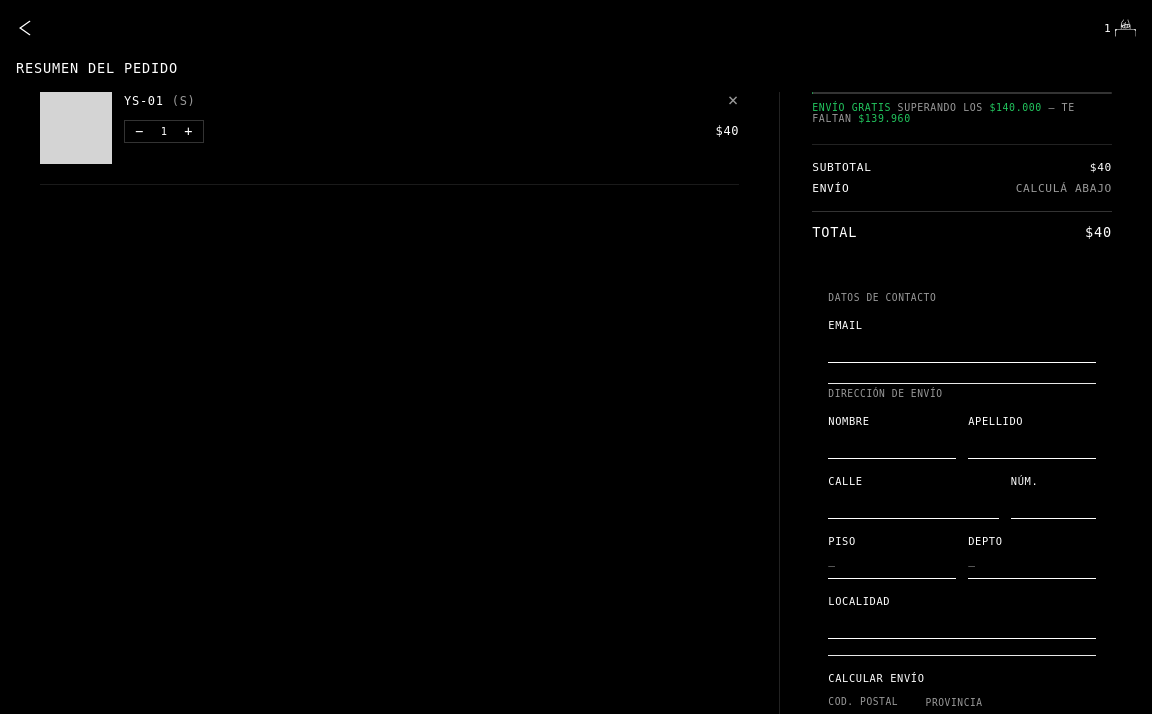
Scenario: Cart › al tocar + en un item incrementa quantity
Click the button with test id "qty-increase". click: (189, 131)
box: [184,125,193,138]
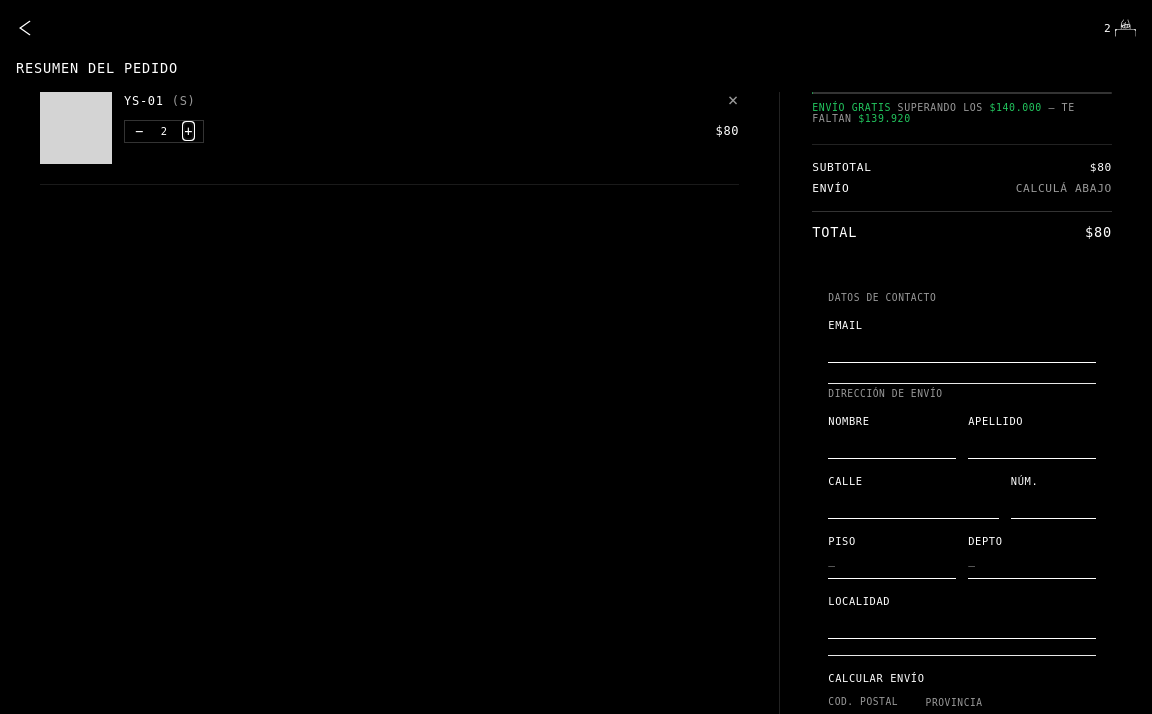
Result: the text with test id "item-qty" reads "2" at [161,125,168,137]
